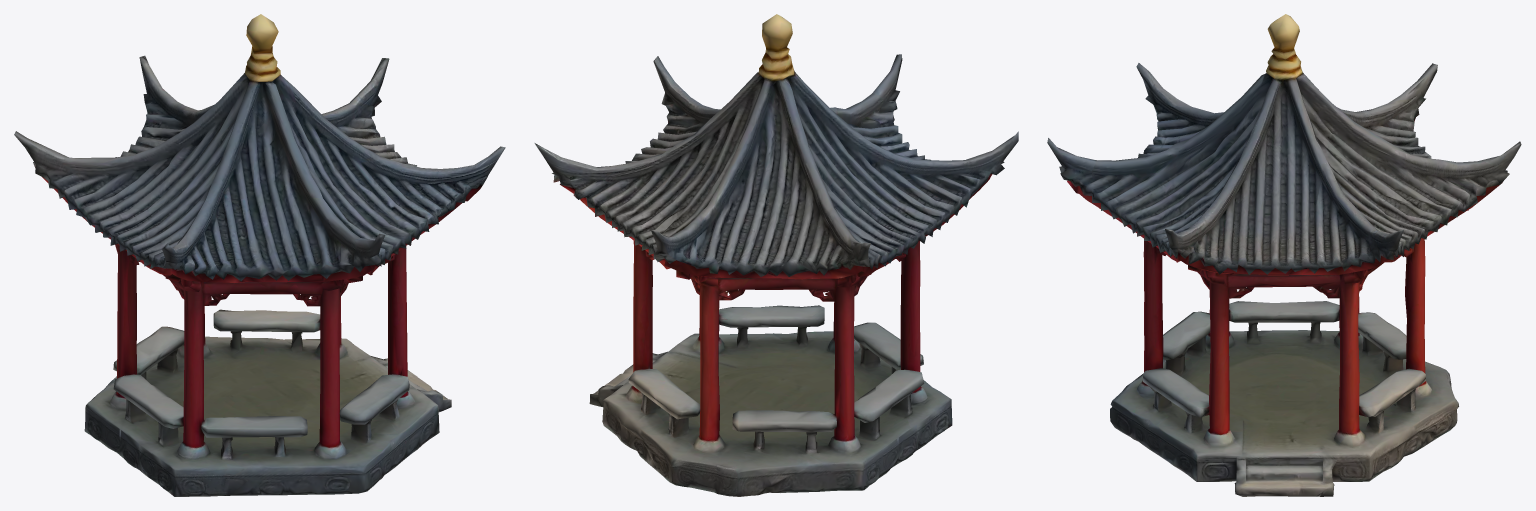
The model's file is pavilion-b.glb.
3 views of the same model, side by side, from view 1: azimuth 30°, elevation 25°; view 2: azimuth 150°, elevation 25°; view 3: azimuth 270°, elevation 25° (orthographic). The views are drawn at different scales.
Visible parts, largest first — view 1: tripo_node_ea425880-9b11-4496-a7e4-4fd913c0d5ab; view 2: tripo_node_ea425880-9b11-4496-a7e4-4fd913c0d5ab; view 3: tripo_node_ea425880-9b11-4496-a7e4-4fd913c0d5ab.
Part boxes in pixels (box(x1,y1,x2,y2)): tripo_node_ea425880-9b11-4496-a7e4-4fd913c0d5ab: box(14, 14, 505, 496); tripo_node_ea425880-9b11-4496-a7e4-4fd913c0d5ab: box(534, 14, 1018, 496); tripo_node_ea425880-9b11-4496-a7e4-4fd913c0d5ab: box(1047, 14, 1521, 496).
Bounding box in the file's own units: 0.8481 × 0.9432 × 1.
Materials: 1 (1 with a texture image).
